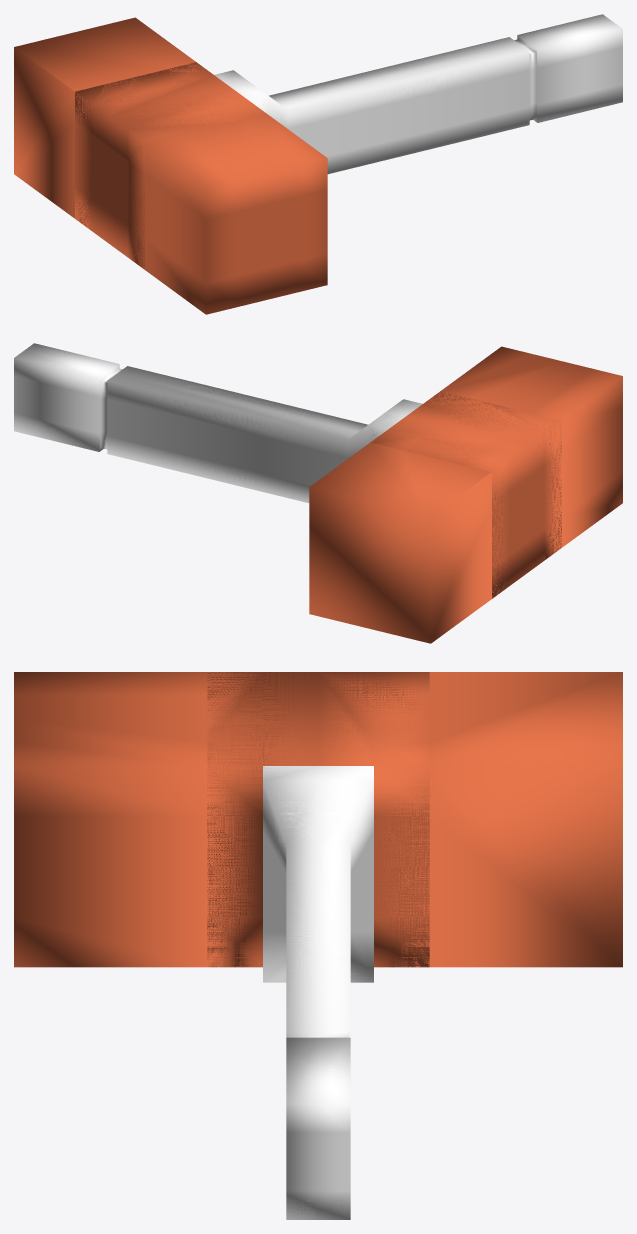
The model's file is hammer3.glb.
3 renders of one model, top to bottom at view 1: azimuth 30°, elevation 25°; view 2: azimuth 150°, elevation 25°; view 3: azimuth 270°, elevation 25°, orthographic. The views are drawn at different scales.
Parts seen in each view (by area): view 1: Cube; view 2: Cube; view 3: Cube.
Part boxes in pixels (bbox=[...]): Cube: bbox=[14, 14, 622, 314]; Cube: bbox=[14, 343, 622, 643]; Cube: bbox=[14, 672, 622, 1219].
Size of the model in its own units: 8.28 by 2 by 5.48.
